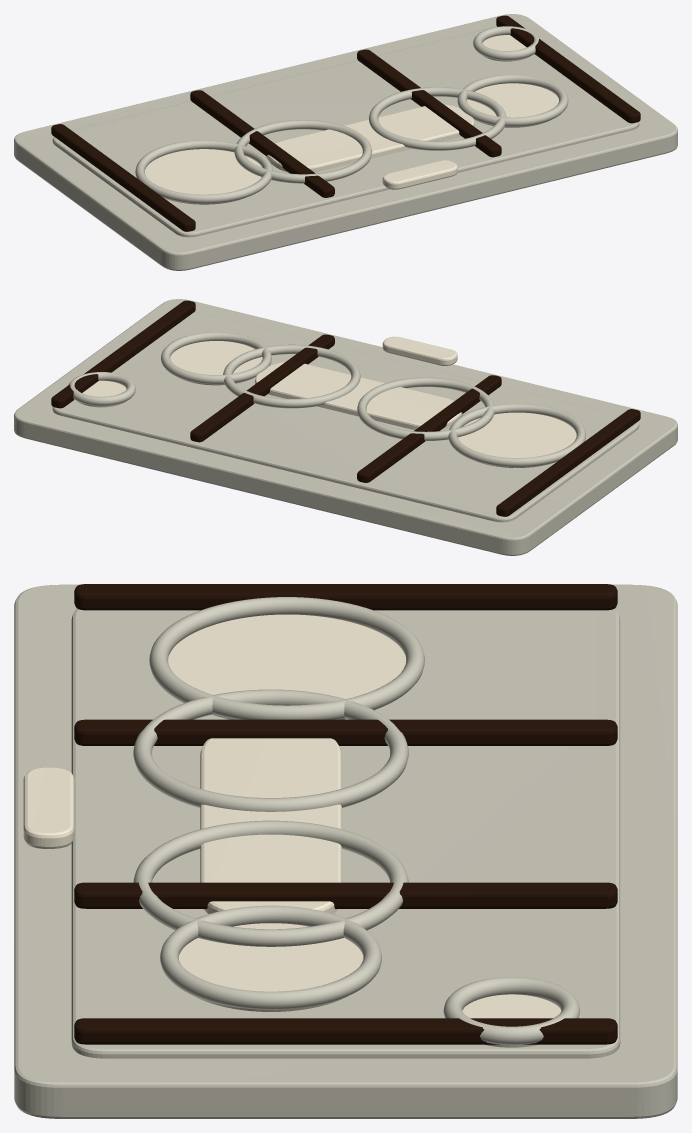
File: orinscare_cosmetic_inner_tray_v6_realistic.glb
The picture shows the model from 3 angles, top to bottom: view 1: azimuth 30°, elevation 25°; view 2: azimuth 150°, elevation 25°; view 3: azimuth 270°, elevation 25°; orthographic projection. The views are drawn at different scales.
Parts seen in each view (by area): view 1: lower_recessed_tray_floor, vacuum_formed_tray_outer_flange, tube_slot_long_rounded_smooth_depressed_floor, round_bottle_pocket_smooth_depressed_floor, round_bottle_pocket_rounded_filleted_rim, support_rib_under_tray_-1.92, tube_slot_long_rounded_rounded_filleted_rim, tube_slot_long_rounded_rounded_filleted_rim_other, support_rib_under_tray_1.92, support_rib_under_tray_-0.72, support_rib_under_tray_0.72, cream_jar_round_pocket_smooth_depressed_floor (+4 smaller); view 2: lower_recessed_tray_floor, vacuum_formed_tray_outer_flange, tube_slot_long_rounded_smooth_depressed_floor, round_bottle_pocket_smooth_depressed_floor, round_bottle_pocket_rounded_filleted_rim, support_rib_under_tray_-1.92, tube_slot_long_rounded_rounded_filleted_rim_other, tube_slot_long_rounded_rounded_filleted_rim, support_rib_under_tray_1.92, support_rib_under_tray_-0.72, support_rib_under_tray_0.72, cream_jar_round_pocket_smooth_depressed_floor (+4 smaller); view 3: lower_recessed_tray_floor, vacuum_formed_tray_outer_flange, tube_slot_long_rounded_smooth_depressed_floor, round_bottle_pocket_smooth_depressed_floor, support_rib_under_tray_1.92, support_rib_under_tray_-1.92, support_rib_under_tray_-0.72, support_rib_under_tray_0.72, round_bottle_pocket_rounded_filleted_rim, tube_slot_long_rounded_rounded_filleted_rim_other, tube_slot_long_rounded_rounded_filleted_rim, cream_jar_round_pocket_rounded_filleted_rim (+4 smaller).
Boxes of the visible parts, left/top/right/bottom form: lower_recessed_tray_floor: left=52, top=26, right=639, bottom=237; vacuum_formed_tray_outer_flange: left=14, top=14, right=677, bottom=270; tube_slot_long_rounded_smooth_depressed_floor: left=266, top=104, right=474, bottom=172; round_bottle_pocket_smooth_depressed_floor: left=144, top=149, right=261, bottom=204; round_bottle_pocket_rounded_filleted_rim: left=135, top=140, right=272, bottom=203; support_rib_under_tray_-1.92: left=51, top=124, right=195, bottom=231; tube_slot_long_rounded_rounded_filleted_rim: left=234, top=120, right=372, bottom=183; tube_slot_long_rounded_rounded_filleted_rim_other: left=369, top=87, right=506, bottom=150; support_rib_under_tray_1.92: left=496, top=15, right=640, bottom=123; support_rib_under_tray_-0.72: left=190, top=90, right=334, bottom=197; support_rib_under_tray_0.72: left=357, top=49, right=501, bottom=157; cream_jar_round_pocket_smooth_depressed_floor: left=467, top=83, right=558, bottom=127; lower_recessed_tray_floor: left=52, top=311, right=639, bottom=522; vacuum_formed_tray_outer_flange: left=14, top=299, right=677, bottom=555; tube_slot_long_rounded_smooth_depressed_floor: left=255, top=362, right=462, bottom=429; round_bottle_pocket_smooth_depressed_floor: left=458, top=412, right=576, bottom=467; round_bottle_pocket_rounded_filleted_rim: left=448, top=403, right=585, bottom=467; support_rib_under_tray_-1.92: left=496, top=409, right=640, bottom=516; tube_slot_long_rounded_rounded_filleted_rim_other: left=223, top=344, right=360, bottom=408; tube_slot_long_rounded_rounded_filleted_rim: left=357, top=377, right=494, bottom=441; support_rib_under_tray_1.92: left=51, top=300, right=195, bottom=408; support_rib_under_tray_-0.72: left=357, top=375, right=501, bottom=482; support_rib_under_tray_0.72: left=190, top=334, right=334, bottom=442; cream_jar_round_pocket_smooth_depressed_floor: left=170, top=341, right=262, bottom=385; lower_recessed_tray_floor: left=71, top=608, right=620, bottom=1058; vacuum_formed_tray_outer_flange: left=14, top=584, right=677, bottom=1118; tube_slot_long_rounded_smooth_depressed_floor: left=200, top=738, right=341, bottom=913; round_bottle_pocket_smooth_depressed_floor: left=168, top=614, right=406, bottom=719; support_rib_under_tray_1.92: left=74, top=1018, right=617, bottom=1044; support_rib_under_tray_-1.92: left=74, top=584, right=617, bottom=610; support_rib_under_tray_-0.72: left=74, top=719, right=617, bottom=745; support_rib_under_tray_0.72: left=74, top=882, right=617, bottom=908; round_bottle_pocket_rounded_filleted_rim: left=149, top=597, right=424, bottom=719; tube_slot_long_rounded_rounded_filleted_rim_other: left=133, top=820, right=408, bottom=946; tube_slot_long_rounded_rounded_filleted_rim: left=133, top=689, right=408, bottom=811; cream_jar_round_pocket_rounded_filleted_rim: left=160, top=905, right=381, bottom=1009.
Bounding box in the file's own units: 4.43 × 0.2875 × 2.48.
